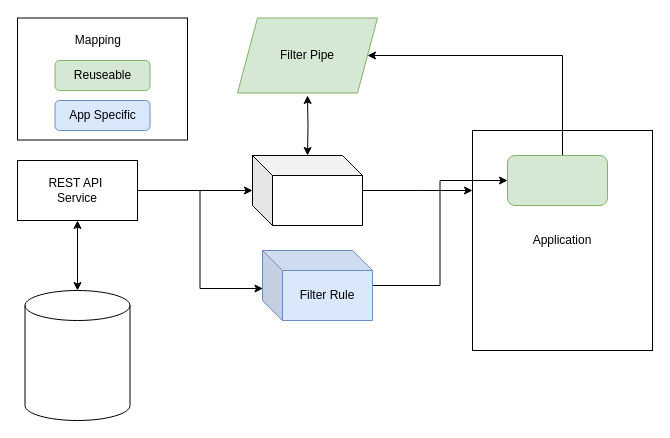
The diagram is 670 pixels wide and 438 high, and some of its shapes have lost their labels. The shapes that lost their labels are listed below. From the top down, each one's centre as x and y in pixels, then its label:
At (x=307, y=190): "Data".
At (x=557, y=180): "Filter Component".
At (x=77, y=355): "Data + FilterRule".
